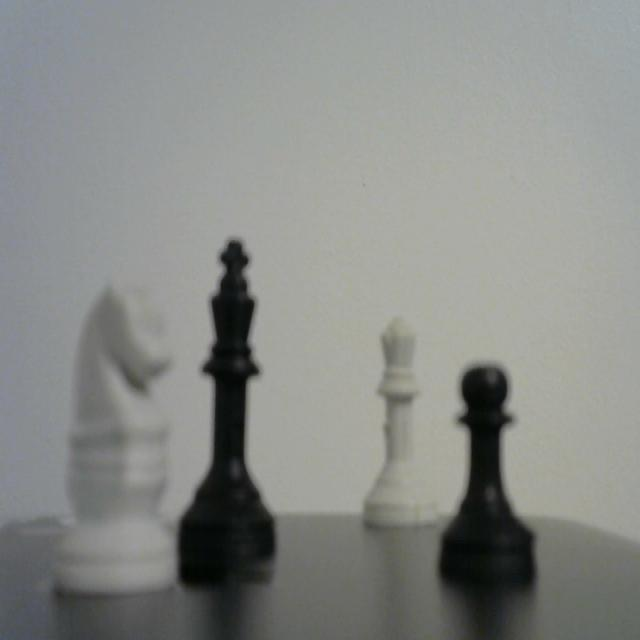black-king: (181, 238, 276, 572)
black-pawn: (439, 363, 536, 590)
white-knight: (59, 267, 179, 597)
white-queen: (358, 313, 441, 532)
